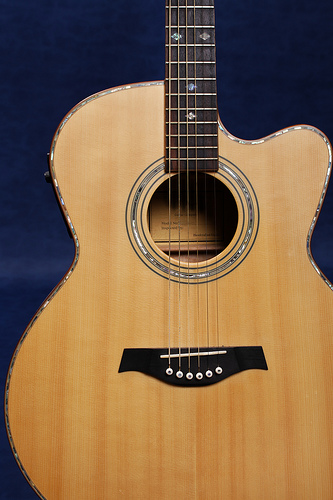guitar: (3, 1, 333, 500)
